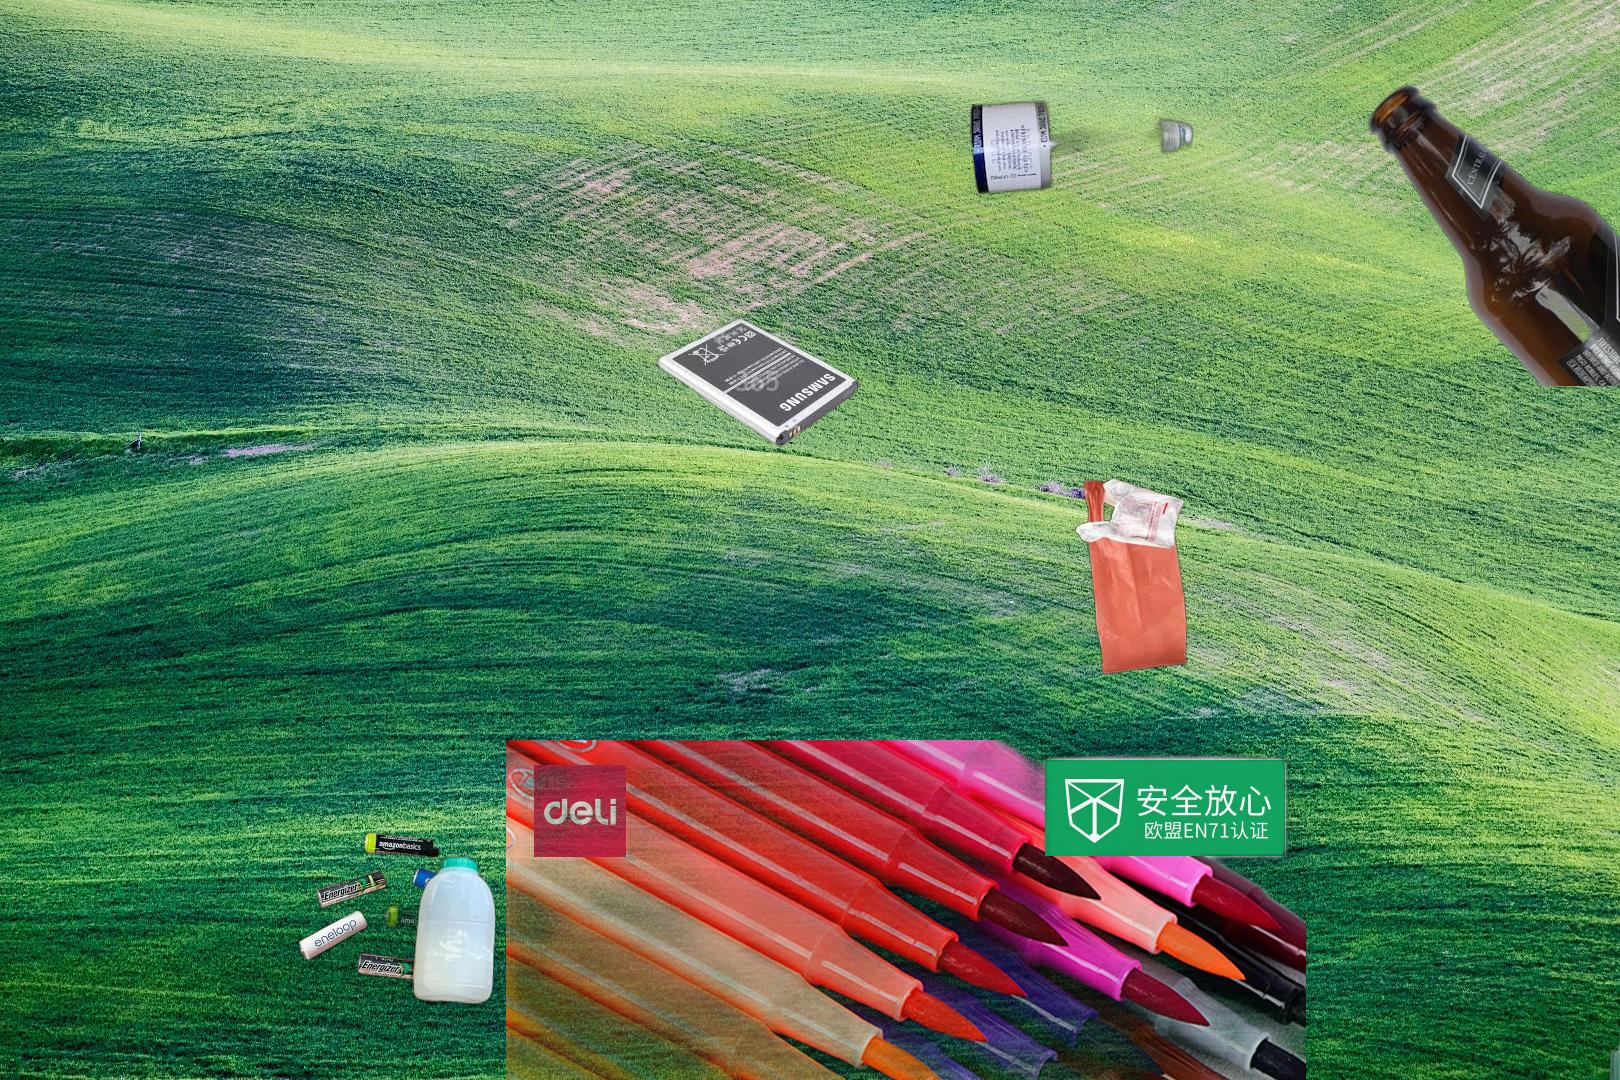battery: (293, 829, 489, 984), (655, 316, 864, 450)
glass: (1364, 82, 1620, 386)
penholder: (506, 740, 1305, 1080), (1598, 1000, 1620, 1080)
plastic-bag: (1073, 475, 1190, 677)
plastic-bottles: (967, 92, 1409, 199), (407, 850, 500, 1011)
